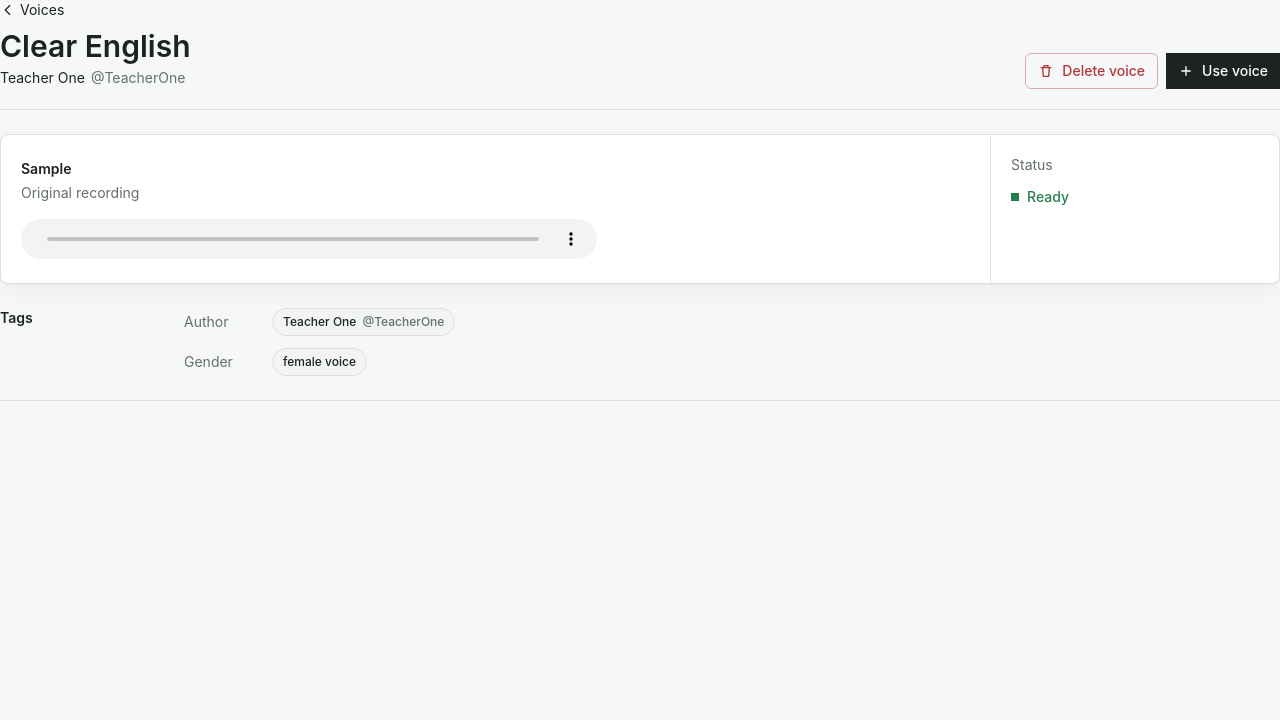
Test case: voice views › lets an admin delete a public voice without exposing owner editing
Click the button "Delete voice" at x=1092, y=71, box [1025,53,1158,89]
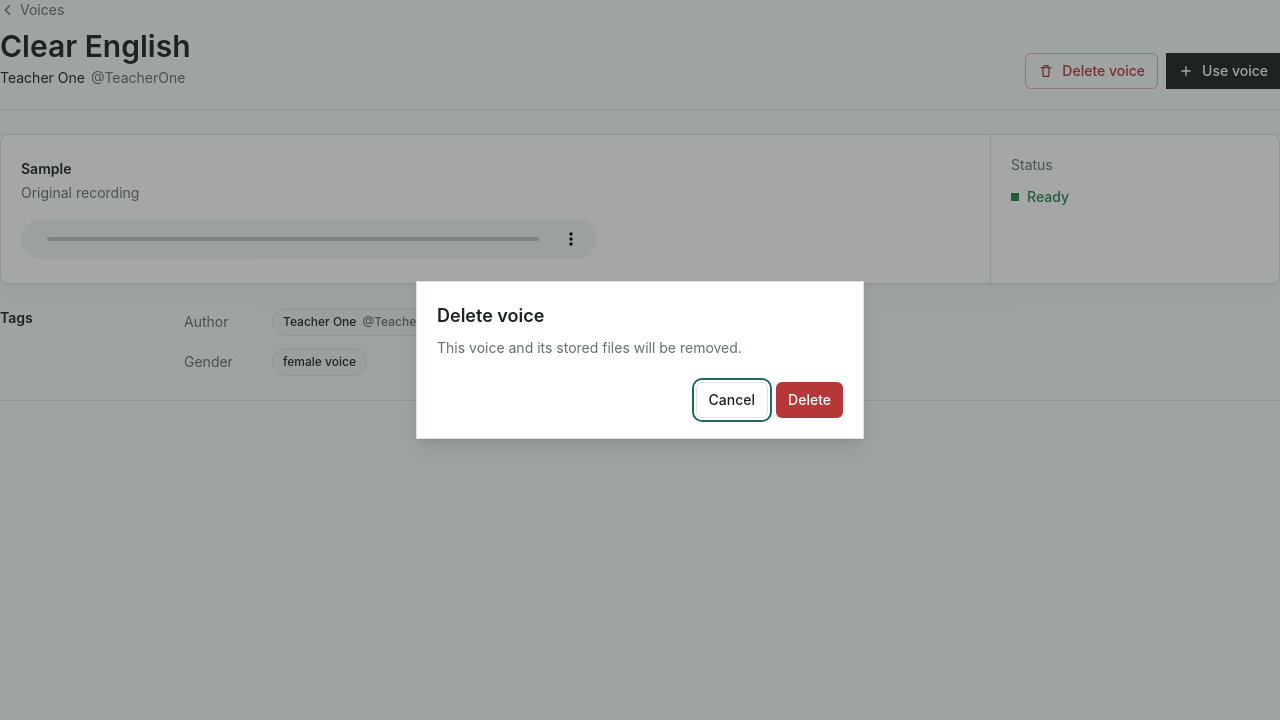
Result: the dialog shows "Delete voice" at [437,305,544,326]
